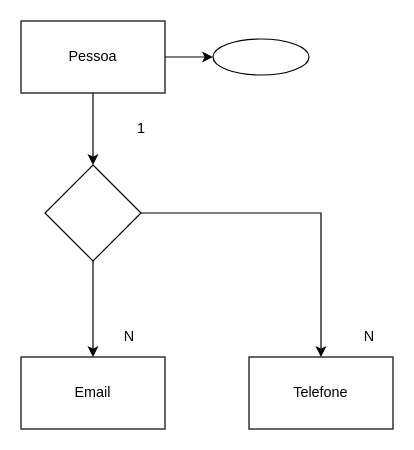
This 414x450 diagram has some shape labels left out. The box of each missing label's shape, as (x1, y1, x2, y2) in pixels:
CNH: (212, 38, 309, 75)
Possui: (44, 164, 141, 261)
